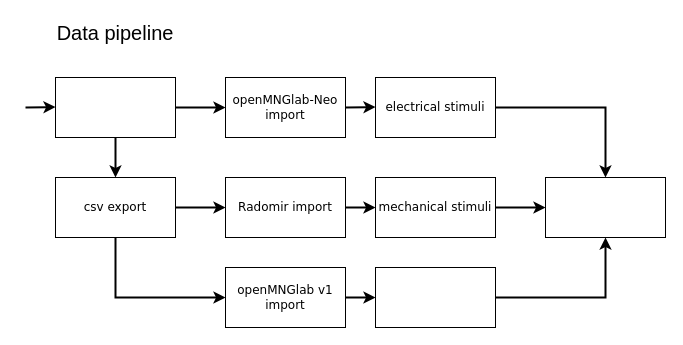
Image size: 683x345. Some labels were removed from this diagram. The shapes that lost their labels are listed below. From the top down, each one's centre as x and y in pixels, then its label:
point (115, 107): Spike2 data
point (605, 207): Quantifier computation
point (435, 297): spikes, mechanical event timestamps
